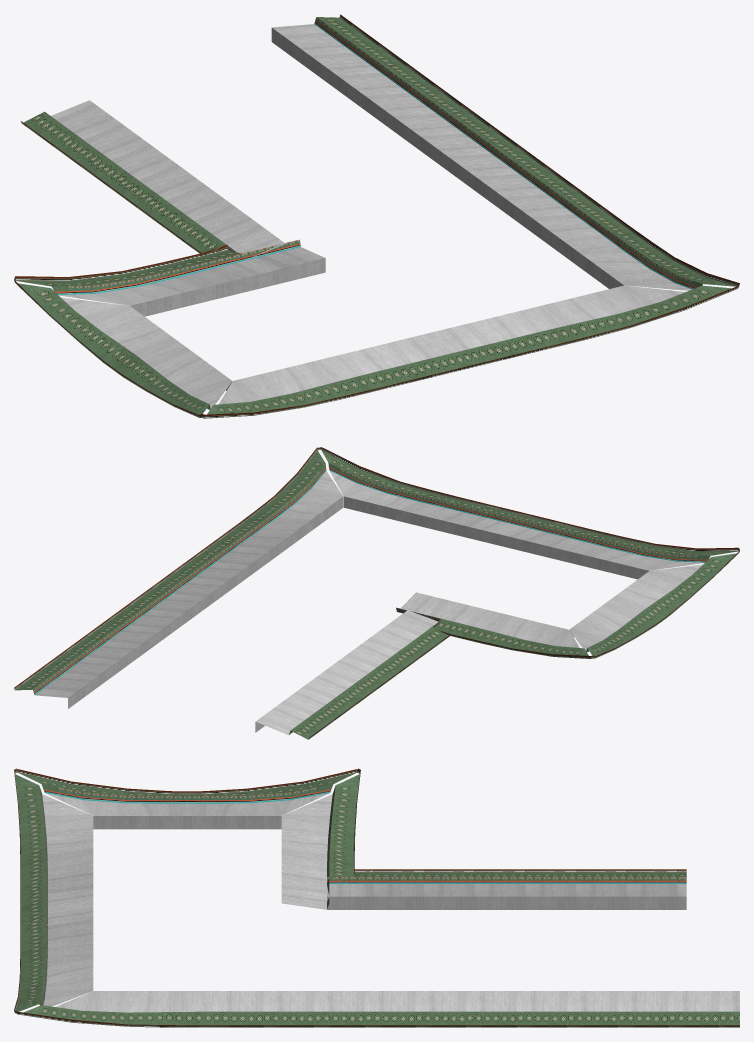
File: SM_Roofplate09C.fbx
3 renders of one model, top to bottom at view 1: azimuth 30°, elevation 25°; view 2: azimuth 150°, elevation 25°; view 3: azimuth 270°, elevation 25°, orthographic. The views are drawn at different scales.
Visible parts, largest first — view 1: SM_Roofplate09C; view 2: SM_Roofplate09C; view 3: SM_Roofplate09C.
Part boxes in pixels (x1,y1,x2,y2): SM_Roofplate09C: [14, 14, 739, 418]; SM_Roofplate09C: [14, 447, 739, 739]; SM_Roofplate09C: [14, 768, 739, 1027].
Size of the model in its own units: 1492 by 1890 by 80.41.
